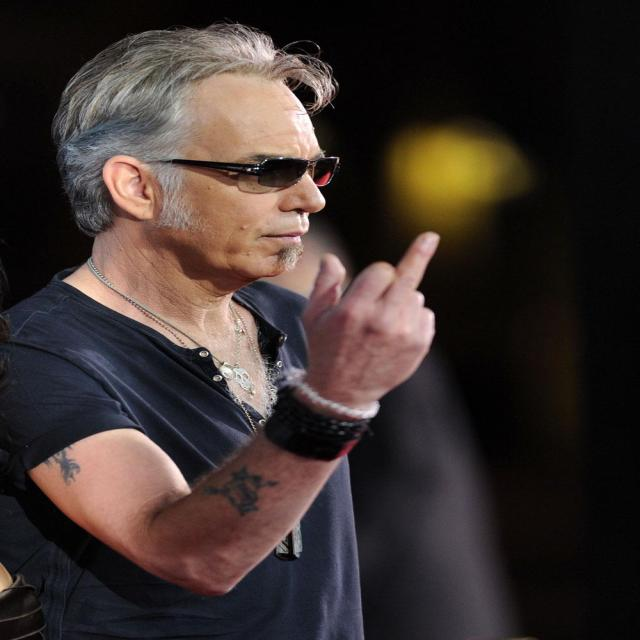no-earmuff: (85, 141, 177, 228)
